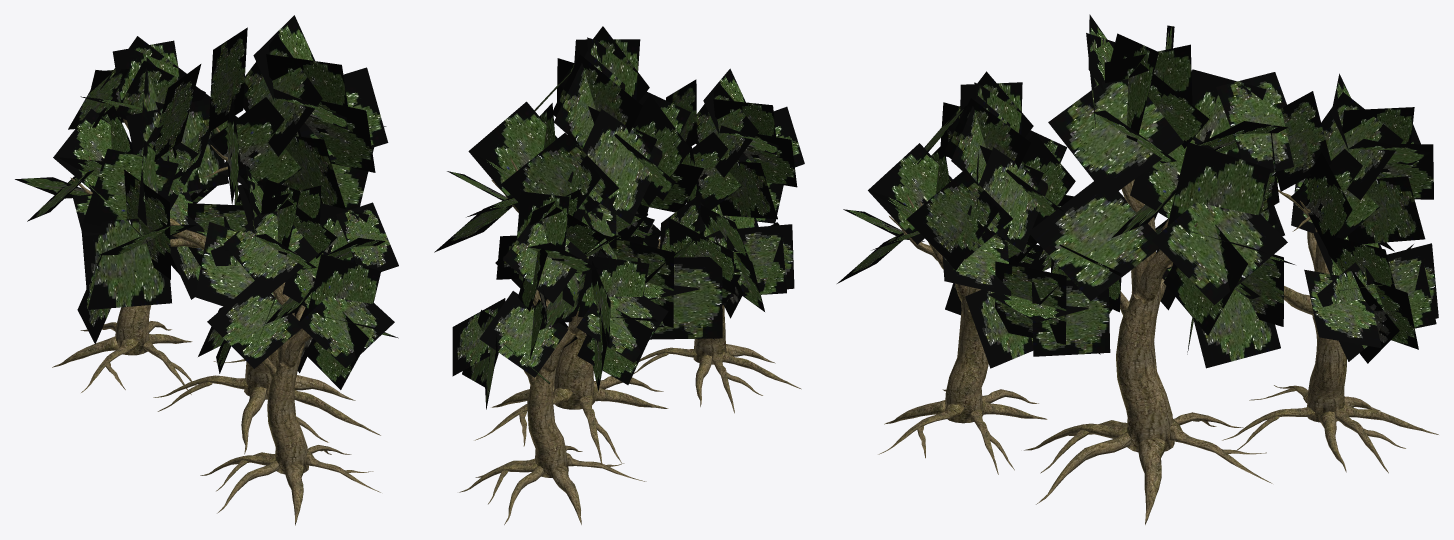
Rendered from SM_Loggingcamp_Tree_b3ef36.glb.
The picture shows the model from 3 angles, left to right: view 1: azimuth 30°, elevation 25°; view 2: azimuth 150°, elevation 25°; view 3: azimuth 270°, elevation 25°; orthographic projection. The views are drawn at different scales.
Bounding box in the file's own units: 4.65 × 5.5 × 6.81.
2 materials, 2 textured.
